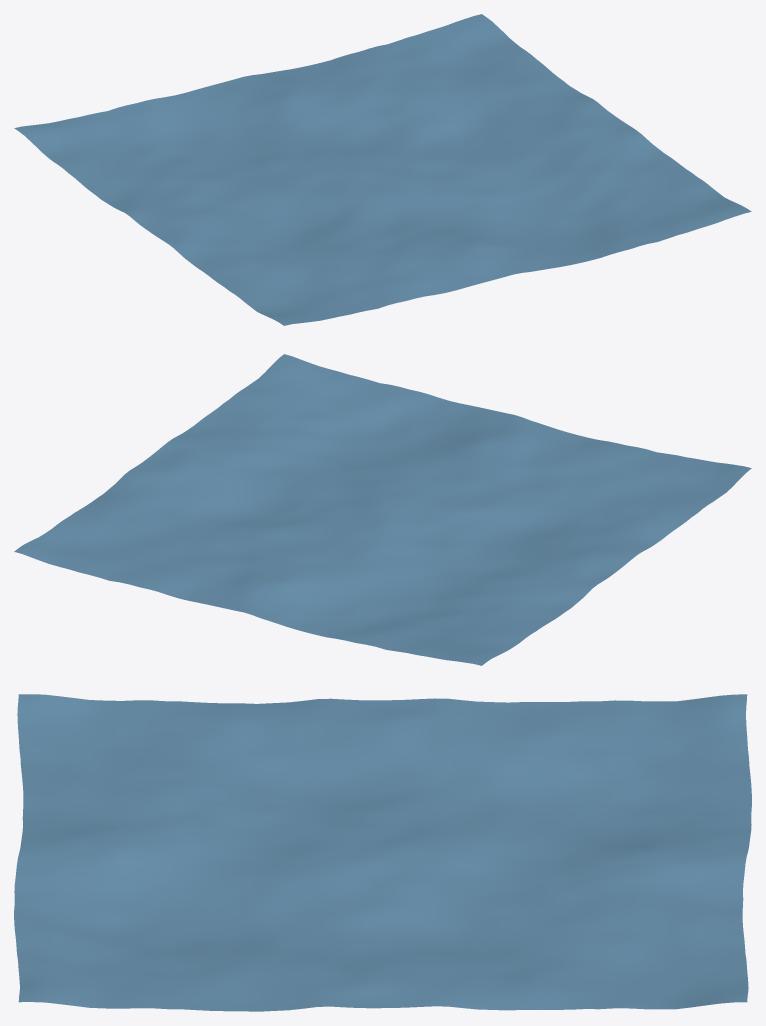
The model's file is water.fbx.
3 renders of one model, top to bottom at view 1: azimuth 30°, elevation 25°; view 2: azimuth 150°, elevation 25°; view 3: azimuth 270°, elevation 25°, orthographic. The views are drawn at different scales.
Parts seen in each view (by area): view 1: Plane; view 2: Plane; view 3: Plane.
Boxes of the visible parts, <box> form: Plane: <box>14,14,751,325</box>; Plane: <box>14,354,751,665</box>; Plane: <box>14,694,751,1011</box>.
Size of the model in its own units: 5024 by 142 by 5065.
